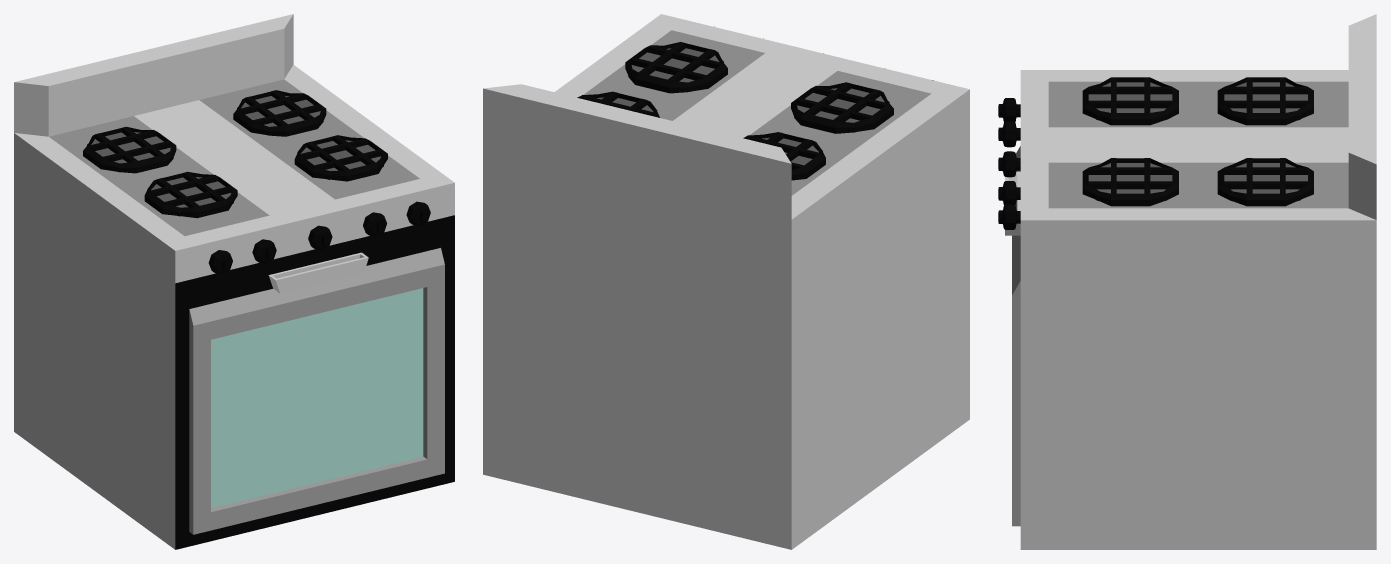
The model's file is horno.fbx.
3 renders of one model, left to right at view 1: azimuth 30°, elevation 25°; view 2: azimuth 150°, elevation 25°; view 3: azimuth 270°, elevation 25°, orthographic. The views are drawn at different scales.
Visible parts, largest first — view 1: Horno; view 2: Horno; view 3: Horno.
Boxes of the visible parts, x1,y1,x2,y2 form: Horno: [14, 14, 454, 549]; Horno: [483, 14, 969, 549]; Horno: [998, 14, 1376, 549].
Size of the model in its own units: 265 by 317 by 282.
